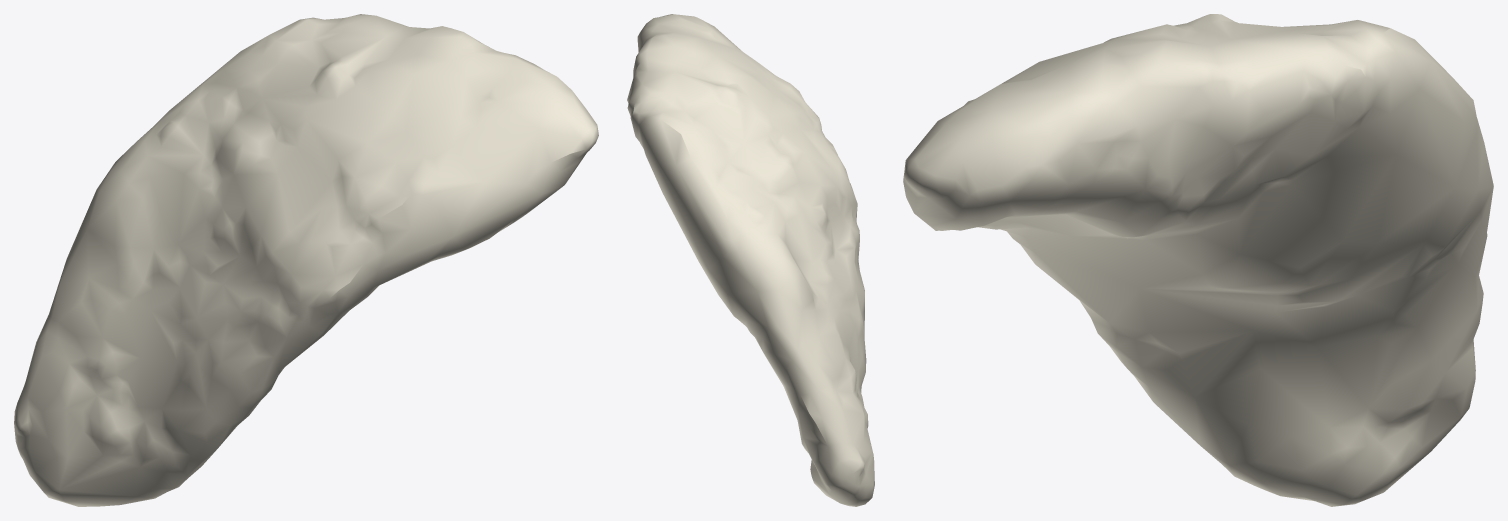
Rendered from fma59102_fj1350.glb.
3 renders of one model, left to right at view 1: azimuth 30°, elevation 25°; view 2: azimuth 150°, elevation 25°; view 3: azimuth 270°, elevation 25°, orthographic. The views are drawn at different scales.
Parts seen in each view (by area): view 1: FMA59102_FJ1350; view 2: FMA59102_FJ1350; view 3: FMA59102_FJ1350.
Boxes of the visible parts, box(x1,y1,x2,y2) form: FMA59102_FJ1350: box(14, 14, 598, 506); FMA59102_FJ1350: box(627, 14, 874, 506); FMA59102_FJ1350: box(903, 14, 1493, 506).
Size of the model in its own units: 0.0148 by 0.0152 by 0.0124.
